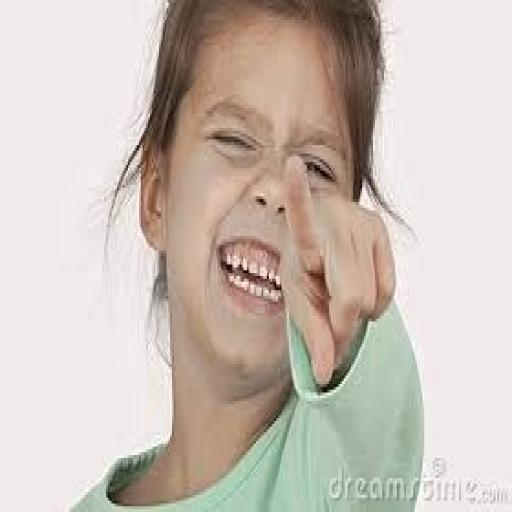laughing: (66, 0, 430, 503)
